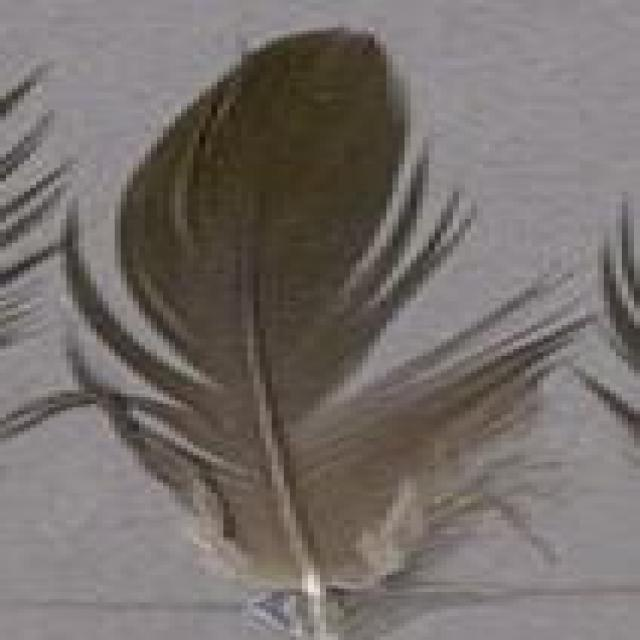feather: (60, 26, 549, 640)
